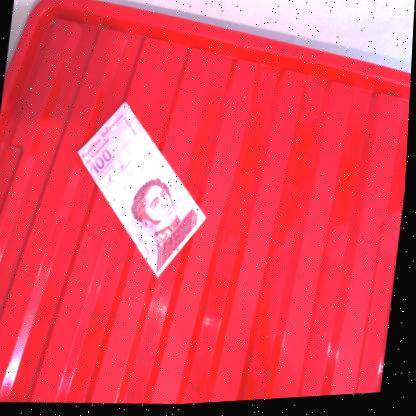one_hundred-front-vef: (64, 95, 222, 288)
